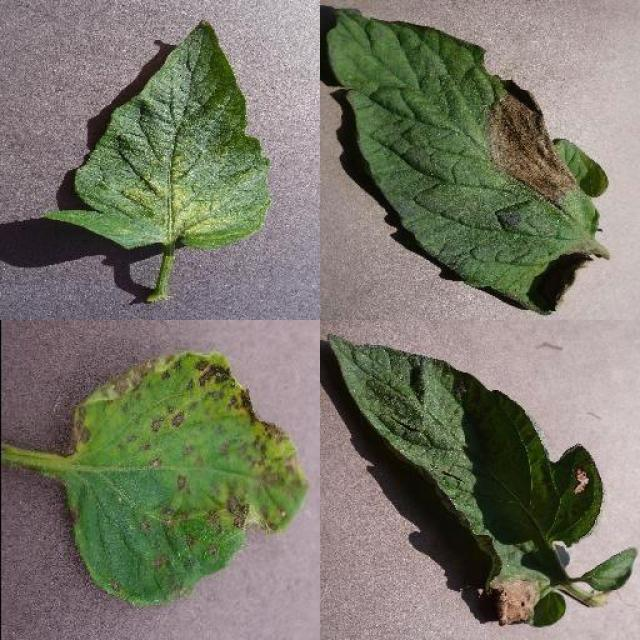Late Blight: (322, 2, 612, 320), (324, 331, 604, 630)
Septoria: (62, 351, 310, 605)
